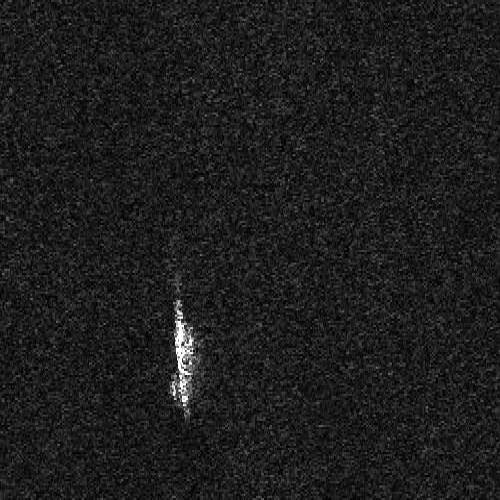ship: (171, 301, 194, 418)
